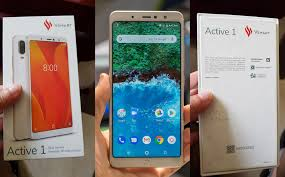vsmart: (18, 33, 72, 139)
